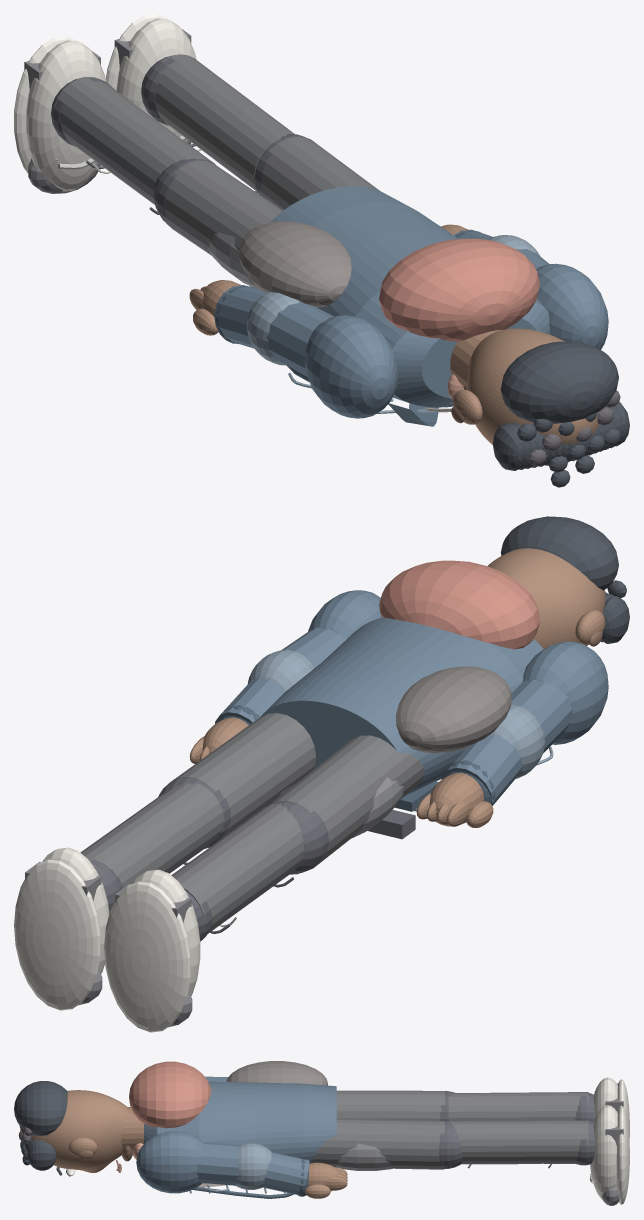
File: looter_23_articulated.glb
3 views of the same model, one above another, from view 1: azimuth 30°, elevation 25°; view 2: azimuth 150°, elevation 25°; view 3: azimuth 270°, elevation 25° (orthographic). The views are drawn at different scales.
Parts seen in each view (by area): view 1: body, arm_l, shin_r, shin_l, foot_l, thigh_l, arm_r, thigh_r, foot_r; view 2: body, arm_l, foot_l, foot_r, thigh_l, shin_l, thigh_r, shin_r, arm_r; view 3: body, arm_r, thigh_r, shin_r, shin_l, thigh_l, foot_r, foot_l.
Boxes of the visible parts, x1,y1,x2,y2 form: body: [239, 186, 629, 487]; arm_l: [189, 280, 397, 418]; shin_r: [141, 54, 294, 193]; shin_l: [51, 77, 215, 214]; foot_l: [14, 36, 106, 193]; thigh_l: [153, 158, 282, 290]; arm_r: [441, 224, 608, 349]; thigh_r: [254, 134, 380, 210]; foot_r: [105, 14, 196, 144]; body: [261, 516, 629, 839]; arm_l: [416, 641, 608, 827]; foot_l: [104, 869, 200, 1032]; foot_r: [14, 847, 109, 1010]; thigh_l: [268, 735, 424, 874]; shin_l: [171, 803, 304, 941]; thigh_r: [158, 713, 315, 848]; shin_r: [80, 783, 224, 913]; arm_r: [189, 590, 381, 763]; body: [14, 1061, 336, 1198]; arm_r: [136, 1131, 347, 1198]; thigh_r: [312, 1118, 462, 1170]; shin_r: [448, 1120, 595, 1168]; shin_l: [448, 1092, 595, 1122]; thigh_l: [336, 1090, 454, 1120]; foot_r: [590, 1105, 629, 1205]; foot_l: [593, 1077, 629, 1139].
Bounding box in the file's own units: 0.6154 × 0.3822 × 1.79.
